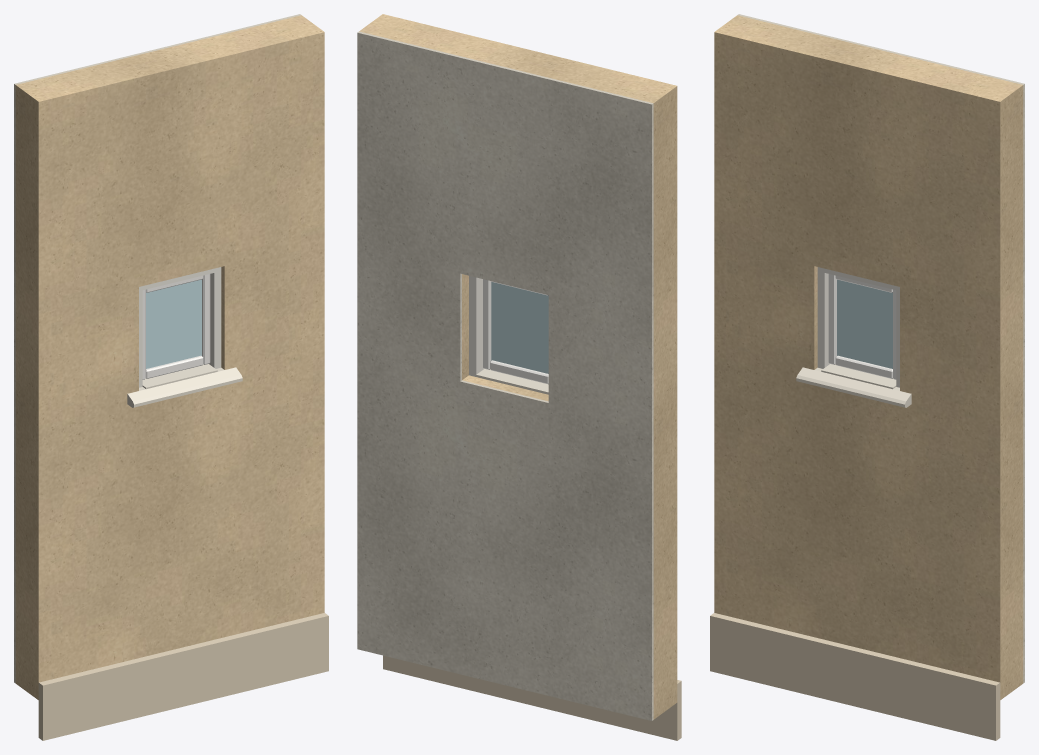
The model's file is wall_render_small_window.glb.
The picture shows the model from 3 angles, left to right: view 1: azimuth 30°, elevation 25°; view 2: azimuth 150°, elevation 25°; view 3: azimuth 330°, elevation 25°; orthographic projection. The views are drawn at different scales.
Visible parts, largest first — view 1: wall_render_small_window_render, wall_render_small_window_band, wall_render_small_window_glass, wall_render_small_window_trim, wall_render_small_window_sash, wall_render_small_window_frame, wall_render_small_window_plaster; view 2: wall_render_small_window_plaster, wall_render_small_window_render, wall_render_small_window_band, wall_render_small_window_glass, wall_render_small_window_sash, wall_render_small_window_frame, wall_render_small_window_trim; view 3: wall_render_small_window_render, wall_render_small_window_band, wall_render_small_window_glass, wall_render_small_window_trim, wall_render_small_window_sash, wall_render_small_window_frame, wall_render_small_window_plaster.
Boxes of the visible parts, left/top/right/bottom form: wall_render_small_window_render: left=15, top=15, right=324, bottom=699; wall_render_small_window_band: left=38, top=613, right=328, bottom=740; wall_render_small_window_glass: left=146, top=279, right=201, bottom=368; wall_render_small_window_trim: left=127, top=364, right=242, bottom=407; wall_render_small_window_sash: left=142, top=274, right=210, bottom=379; wall_render_small_window_frame: left=139, top=267, right=221, bottom=387; wall_render_small_window_plaster: left=14, top=14, right=301, bottom=683; wall_render_small_window_plaster: left=357, top=31, right=653, bottom=720; wall_render_small_window_render: left=359, top=14, right=677, bottom=719; wall_render_small_window_band: left=383, top=655, right=681, bottom=740; wall_render_small_window_glass: left=491, top=282, right=548, bottom=373; wall_render_small_window_sash: left=483, top=279, right=548, bottom=384; wall_render_small_window_frame: left=469, top=276, right=483, bottom=376; wall_render_small_window_trim: left=476, top=369, right=548, bottom=394; wall_render_small_window_render: left=714, top=15, right=1023, bottom=699; wall_render_small_window_band: left=710, top=613, right=1000, bottom=740; wall_render_small_window_glass: left=837, top=279, right=892, bottom=368; wall_render_small_window_trim: left=796, top=364, right=911, bottom=407; wall_render_small_window_sash: left=828, top=274, right=896, bottom=379; wall_render_small_window_frame: left=817, top=267, right=899, bottom=387; wall_render_small_window_plaster: left=737, top=14, right=1024, bottom=683.
Bounding box in the file's own units: 2 × 4.25 × 0.38.
7 materials, 2 textured.
